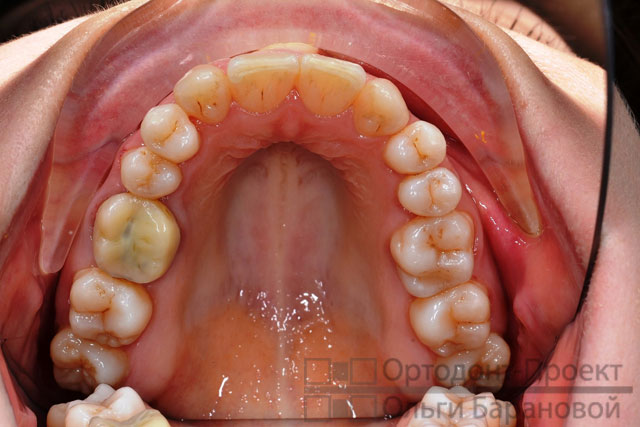UL1BC_healthy: (401, 173, 461, 212)
UL1M_healthy: (410, 291, 489, 354)
UL2BC_decay: (391, 221, 479, 291)
ULCI_healthy: (299, 54, 363, 119)
ULC_healthy: (387, 124, 446, 167)
ULLI_healthy: (355, 80, 409, 135)
UR1BC_healthy: (121, 151, 183, 198)
UR1M_healthy: (67, 275, 152, 342)
UR2BC_decay: (94, 196, 182, 280)
UR2M_healthy: (50, 337, 129, 385)
URCI_decay: (228, 52, 296, 112)
URC_decay: (137, 104, 199, 157)
URLI_decay: (177, 63, 228, 124)
